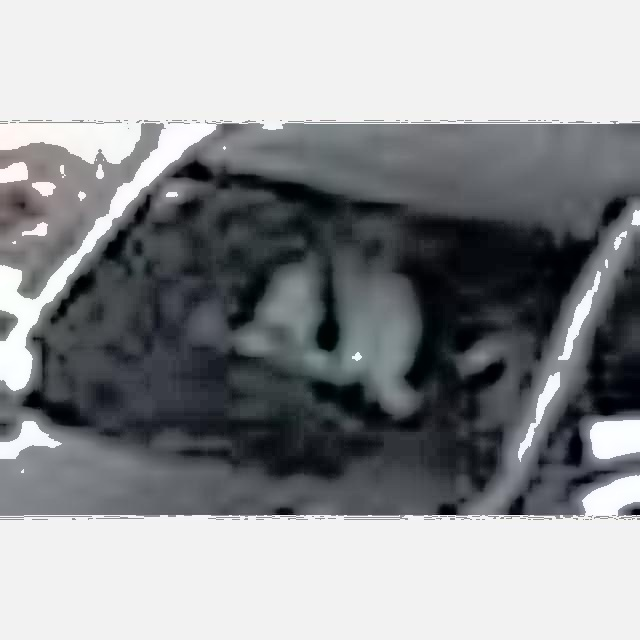pakai: (181, 229, 468, 430)
